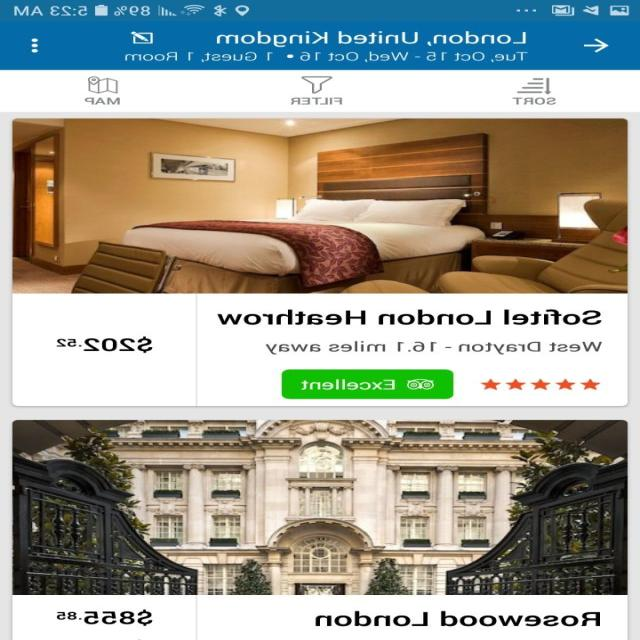Icon: (480, 378, 602, 390), (516, 78, 552, 95), (88, 76, 119, 94), (583, 38, 610, 53), (130, 30, 156, 43), (32, 36, 40, 53)
Image: (12, 118, 628, 294), (14, 420, 628, 594), (302, 75, 334, 94)
Text: (217, 309, 603, 325), (217, 30, 527, 48), (315, 610, 601, 627), (266, 340, 602, 354), (125, 52, 529, 62), (57, 336, 154, 353), (57, 609, 154, 626), (290, 96, 344, 105), (512, 97, 556, 105), (85, 96, 122, 105)
TextButton: (282, 369, 454, 399)
